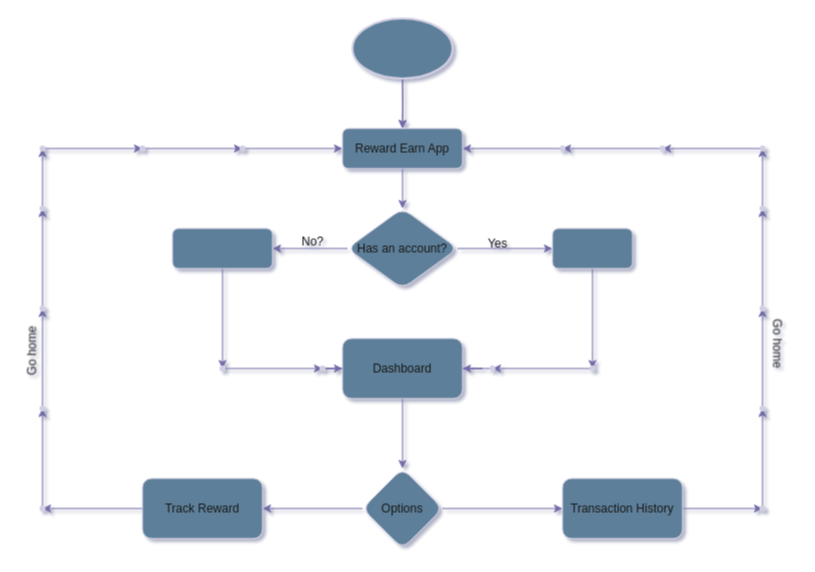
The diagram is 815 pixels wide and 572 high, and some of its shapes have lost their labels. Each missing label, with the box of its shape:
Create Account: (172, 228, 272, 268)
Sign In: (552, 228, 632, 268)
Start: (351, 17, 453, 79)
